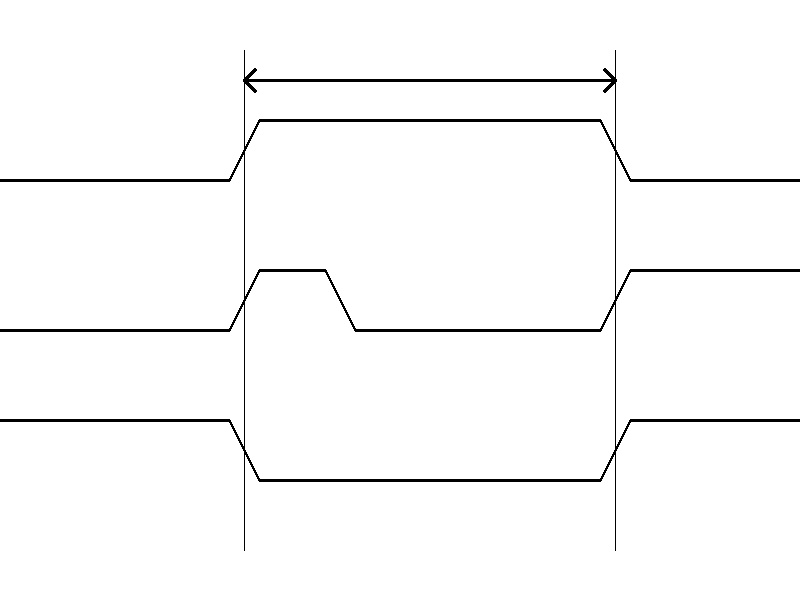double_arrow: (244, 65, 615, 95)
